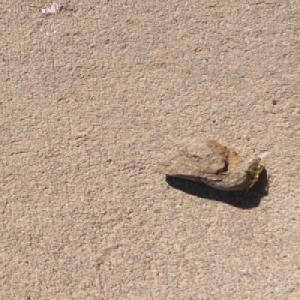Rock: (151, 136, 263, 191)
